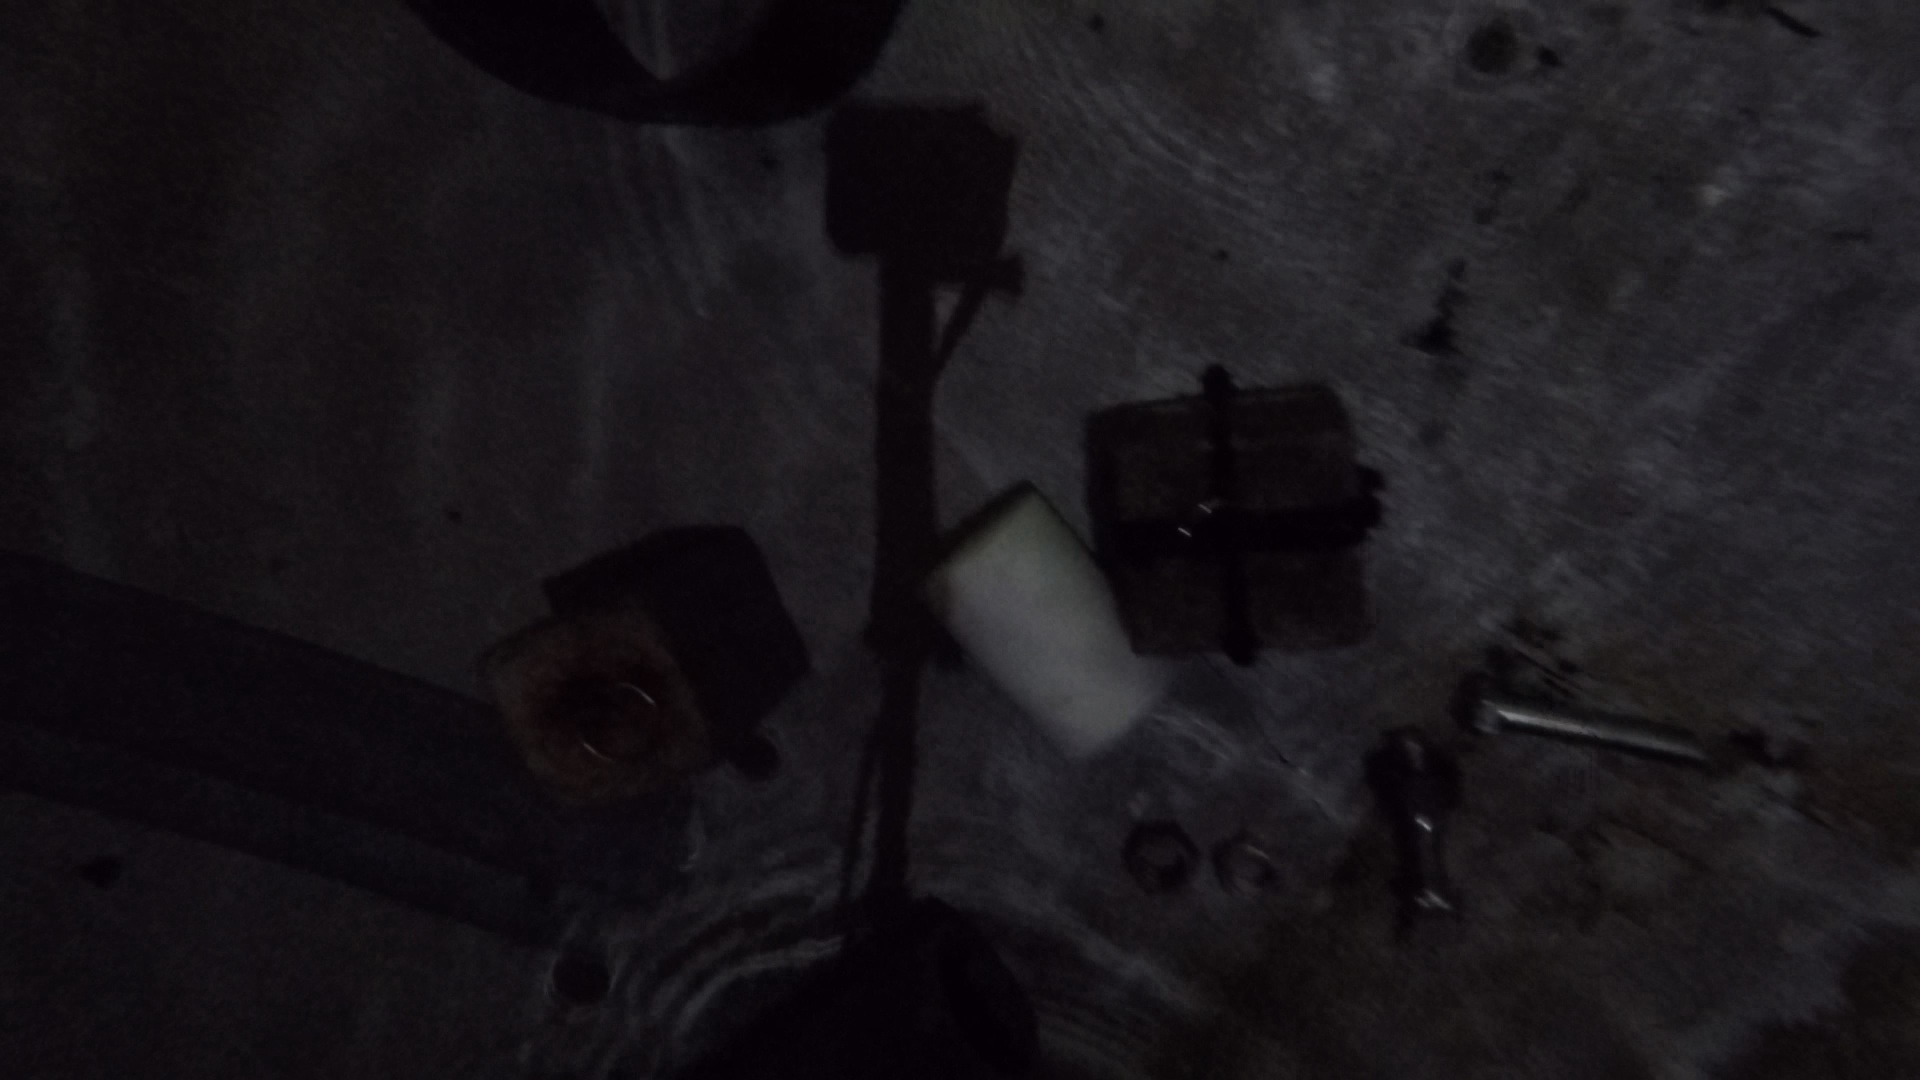bolt: (1464, 675, 1712, 771), (1396, 733, 1466, 920)
led_block: (473, 527, 812, 822), (1092, 367, 1385, 669)
nut: (1121, 820, 1199, 895), (1367, 764, 1464, 814), (1215, 833, 1284, 902)
pipe: (1, 527, 687, 945), (916, 483, 1185, 766), (675, 901, 1040, 1080), (404, 1, 910, 128)
